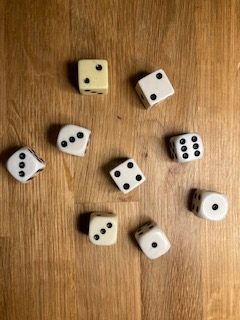four: (106, 155, 149, 196)
one: (131, 219, 173, 260), (187, 186, 231, 223)
six: (167, 130, 206, 164)
three: (4, 145, 48, 184), (54, 121, 94, 159), (86, 210, 121, 248)
two: (133, 67, 176, 110), (76, 56, 111, 98)
